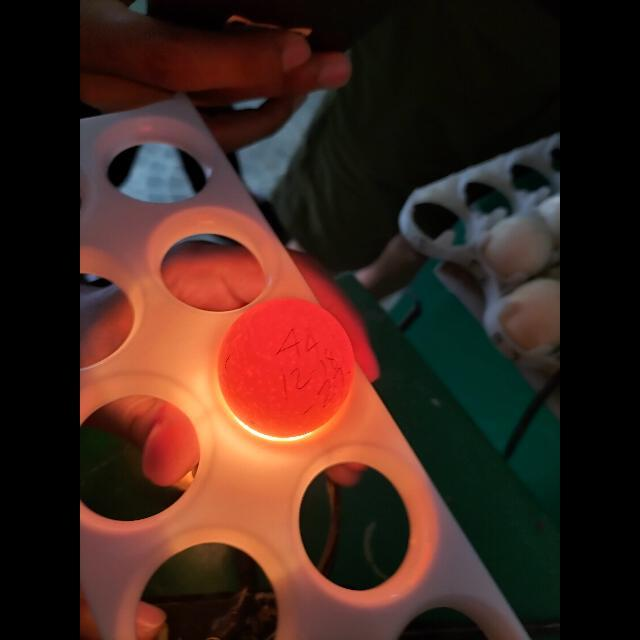Infertile: (223, 297, 364, 435)
